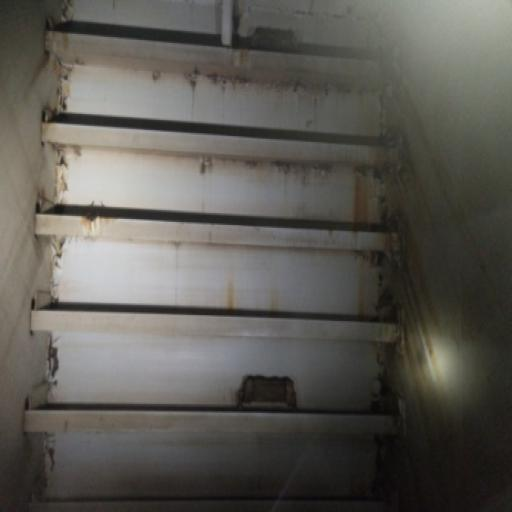Detect-rust-on-metal-surfaces: (354, 203, 454, 511), (349, 162, 373, 237)
